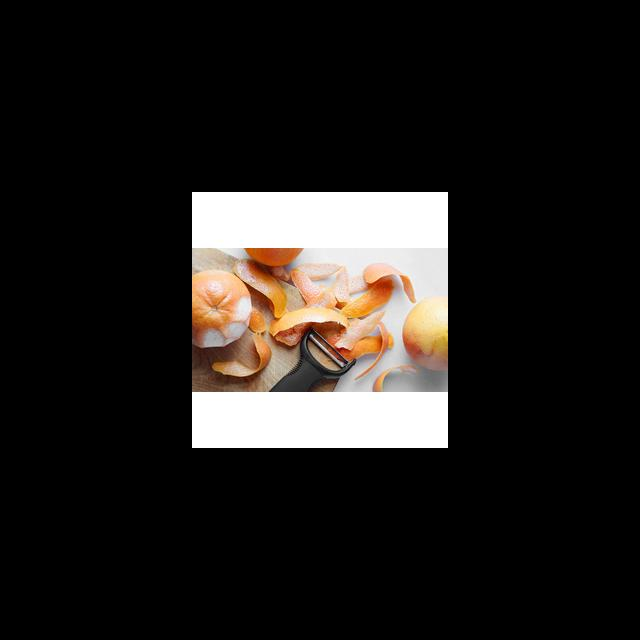food_waste: (192, 271, 252, 349), (231, 257, 289, 319), (402, 294, 447, 371), (293, 264, 351, 307), (271, 308, 346, 335), (363, 264, 393, 303), (244, 248, 304, 267)
